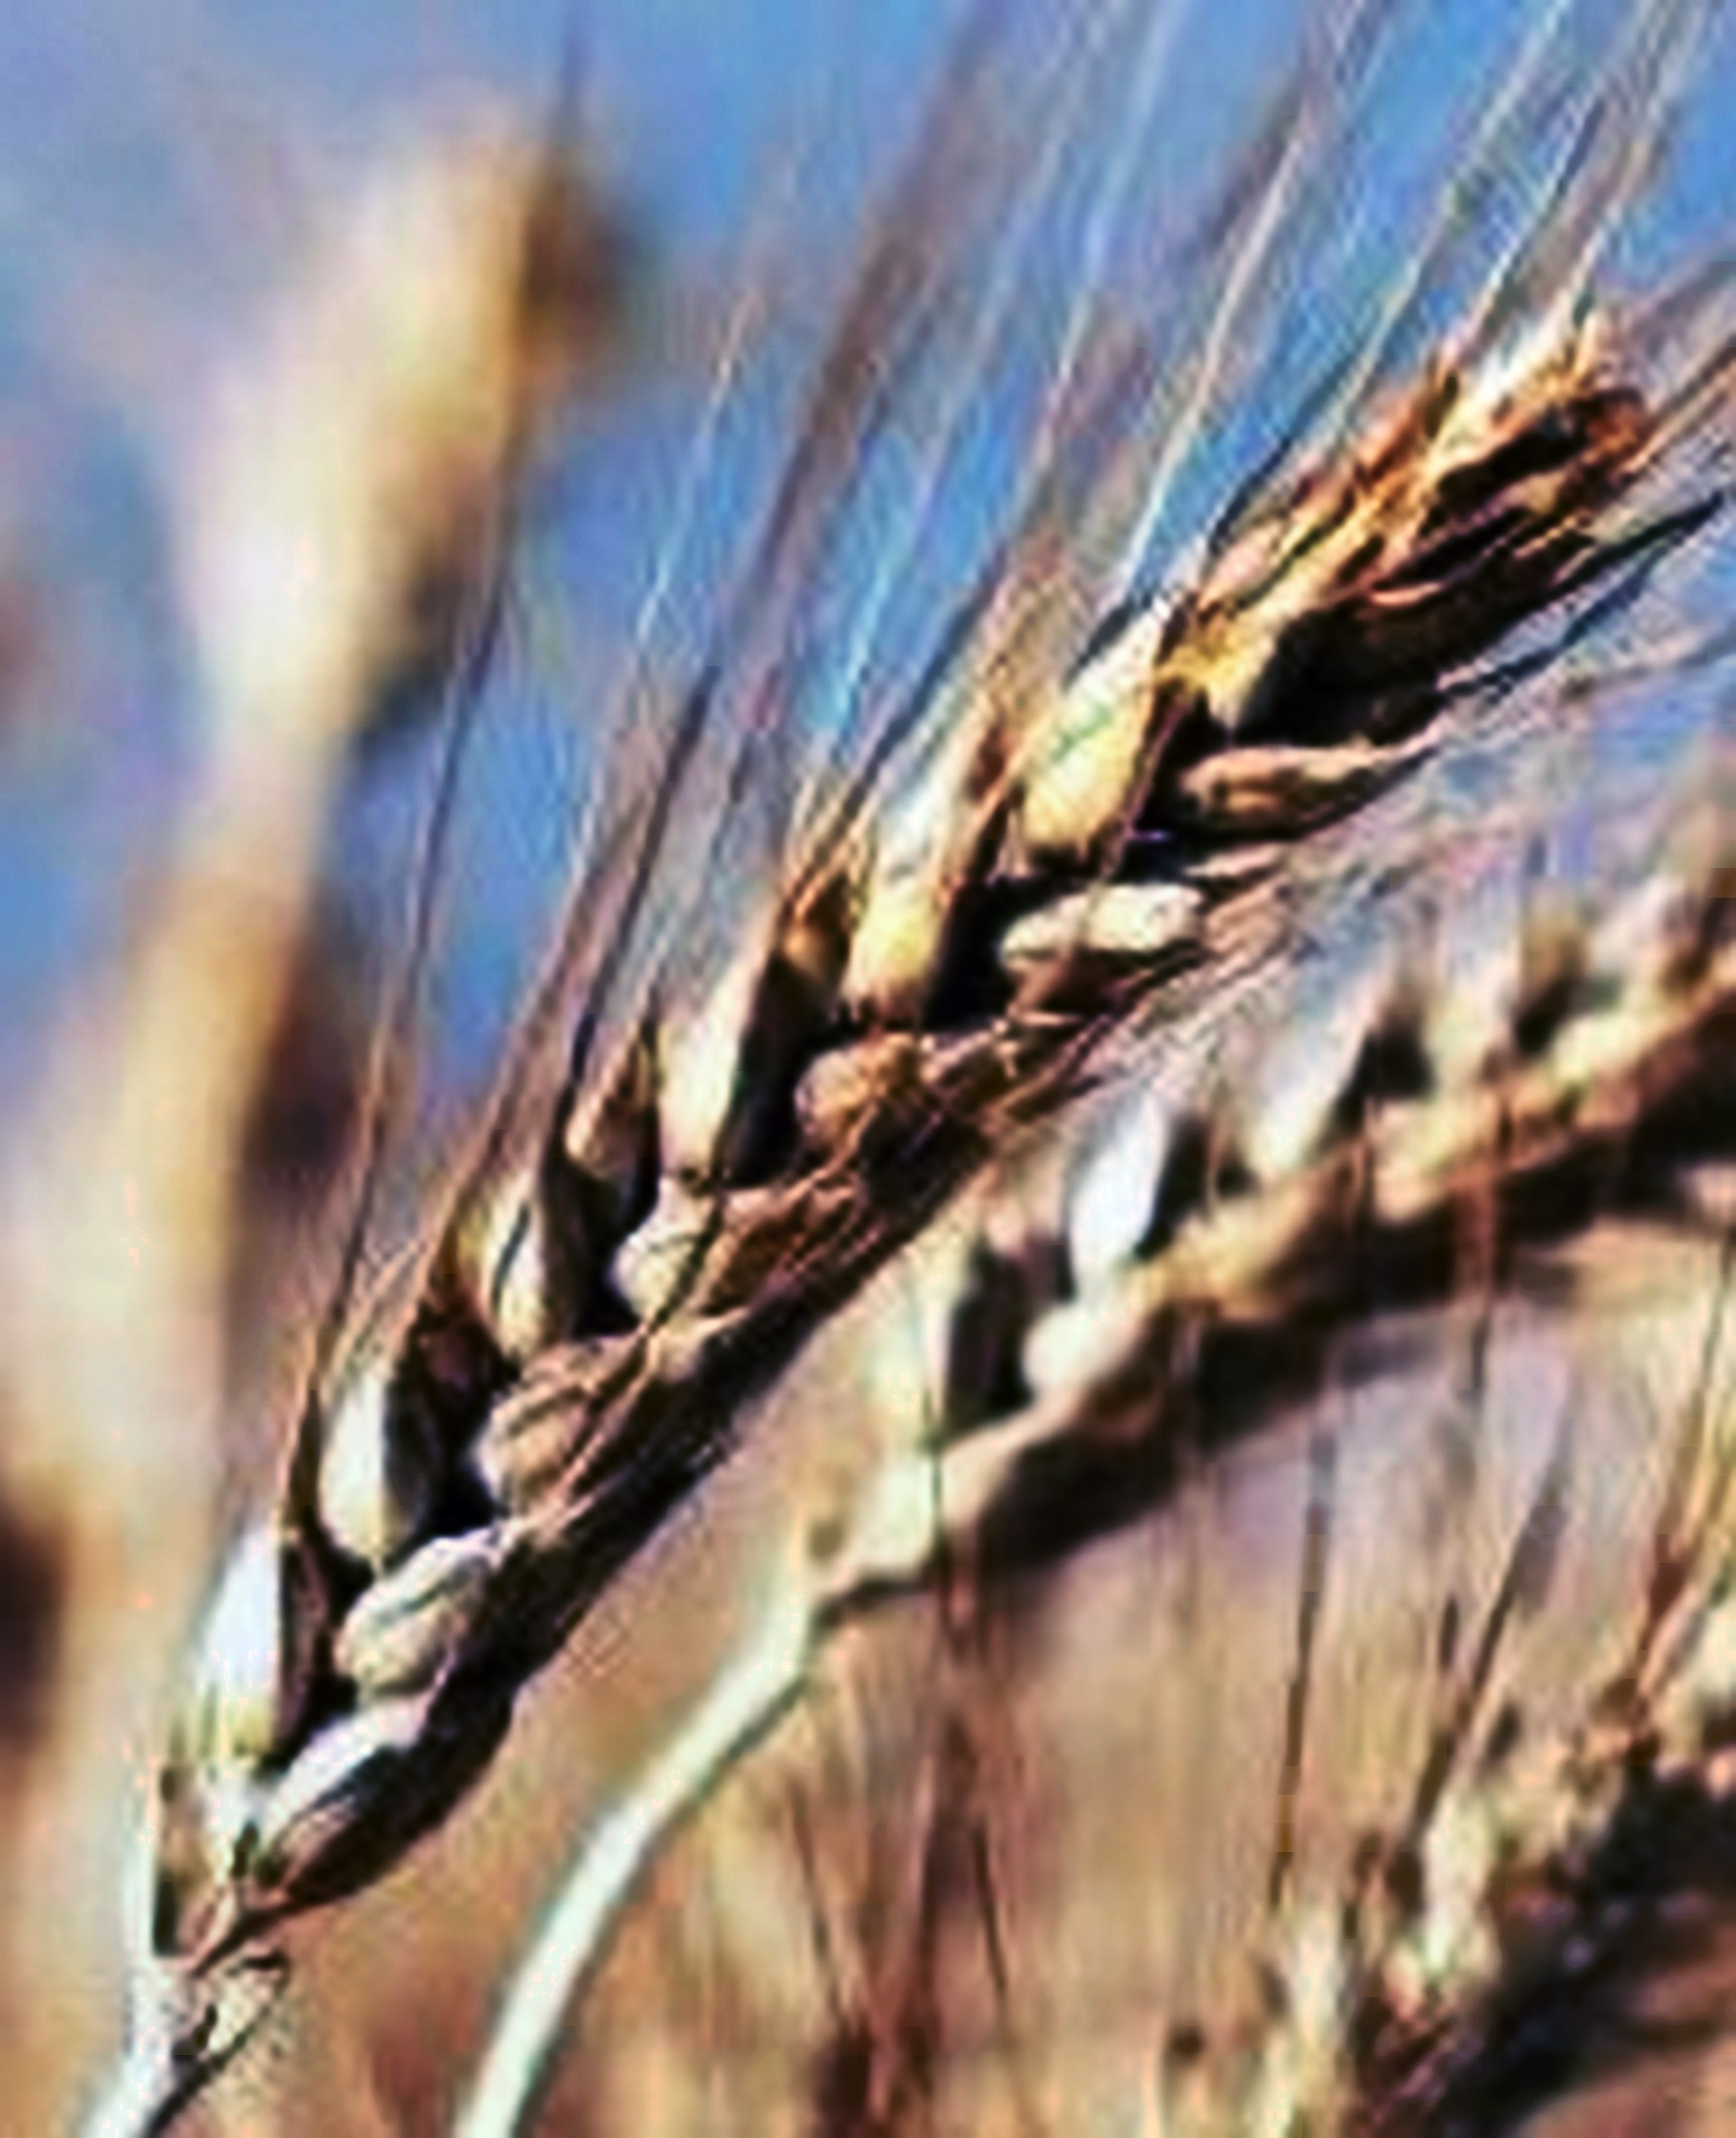Healthy Wheat: (170, 308, 1617, 1913)
